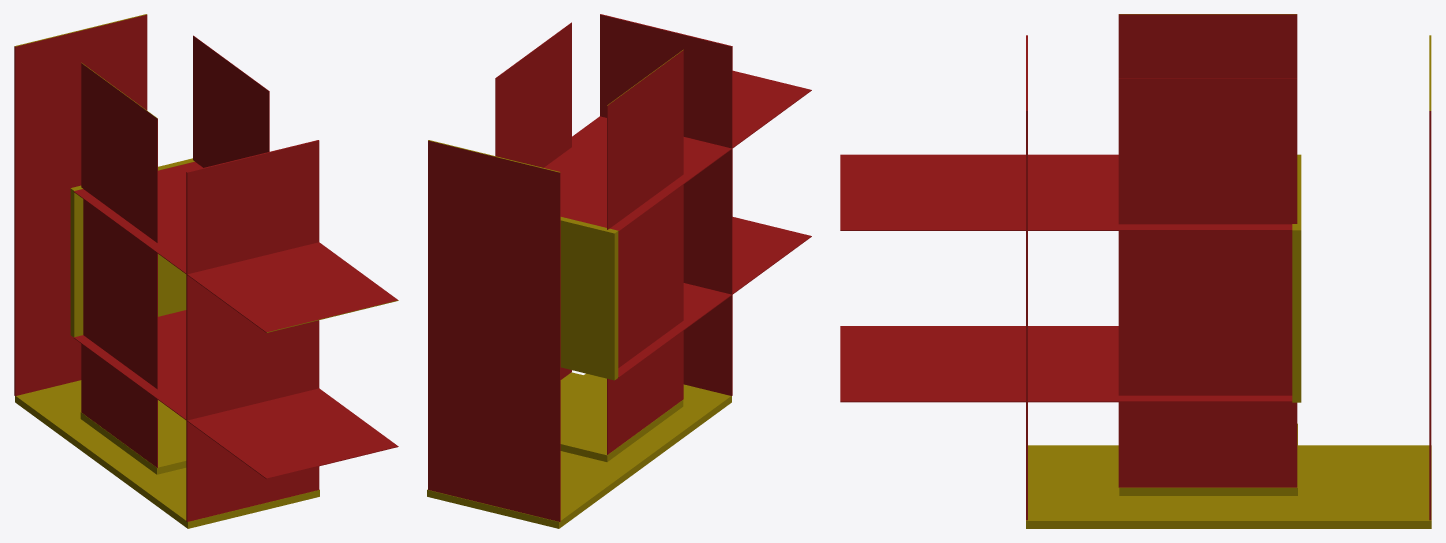
Rendered from super-sentinel-dimensions.dae.
The picture shows the model from 3 angles, left to right: view 1: azimuth 30°, elevation 25°; view 2: azimuth 150°, elevation 25°; view 3: azimuth 270°, elevation 25°; orthographic projection. The views are drawn at different scales.
Visible parts, largest first — view 1: Plane_002_003, Plane_002_003_001, Plane_002_003_002; view 2: Plane_002_003, Plane_002_003_001, Plane_002_003_002; view 3: Plane_002_003_001, Plane_002_003_002, Plane_002_003.
Part boxes in pixels (x1=…): Plane_002_003: x1=14, y1=14, x2=319, y2=528; Plane_002_003_001: x1=80, y1=35, x2=269, y2=474; Plane_002_003_002: x1=70, y1=158, x2=398, y2=478; Plane_002_003: x1=427, y1=14, x2=732, y2=528; Plane_002_003_001: x1=495, y1=22, x2=683, y2=461; Plane_002_003_002: x1=544, y1=70, x2=811, y2=380; Plane_002_003_001: x1=1118, y1=14, x2=1297, y2=495; Plane_002_003_002: x1=840, y1=154, x2=1301, y2=402; Plane_002_003: x1=1026, y1=35, x2=1431, y2=528.
Bounding box in the file's own units: 2.01 × 6.62 × 5.49.
